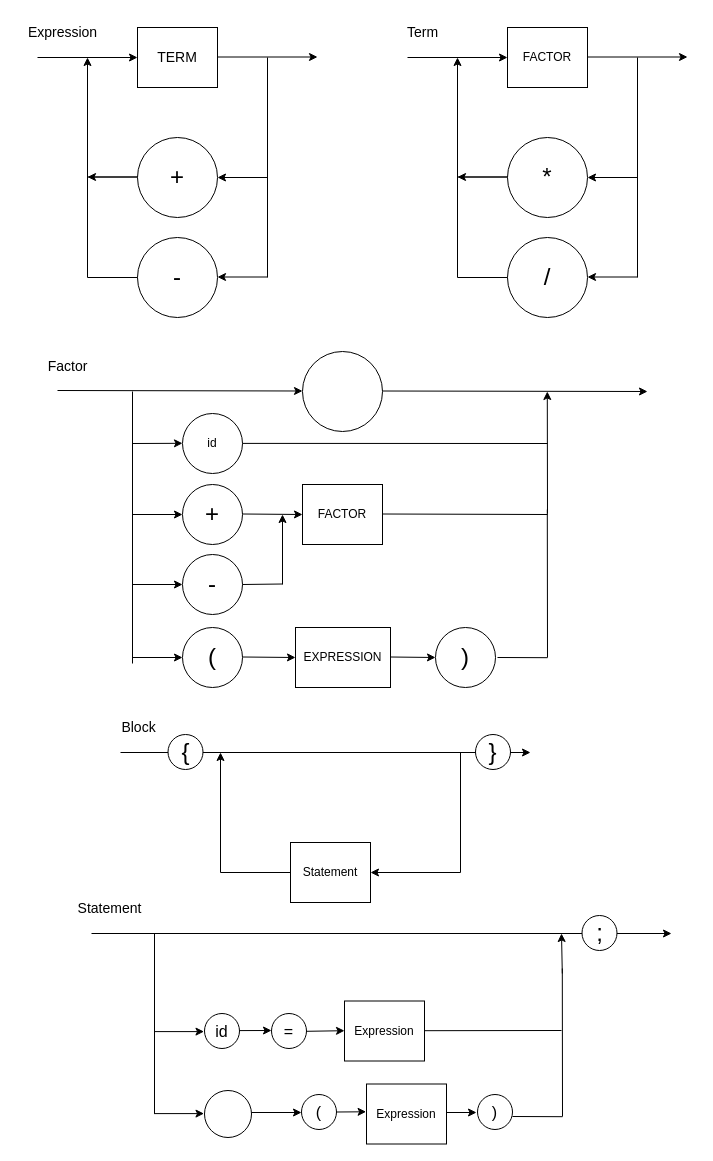
The diagram is 713 pixels wide and 1161 high, and some of its shapes have lost their labels. The shapes that lost their labels are listed below. From the top down, each one's box as (x1, y1, x2, y2) in pixels, then its label:
(302, 350, 382, 432): number
(204, 1090, 252, 1138): printf
